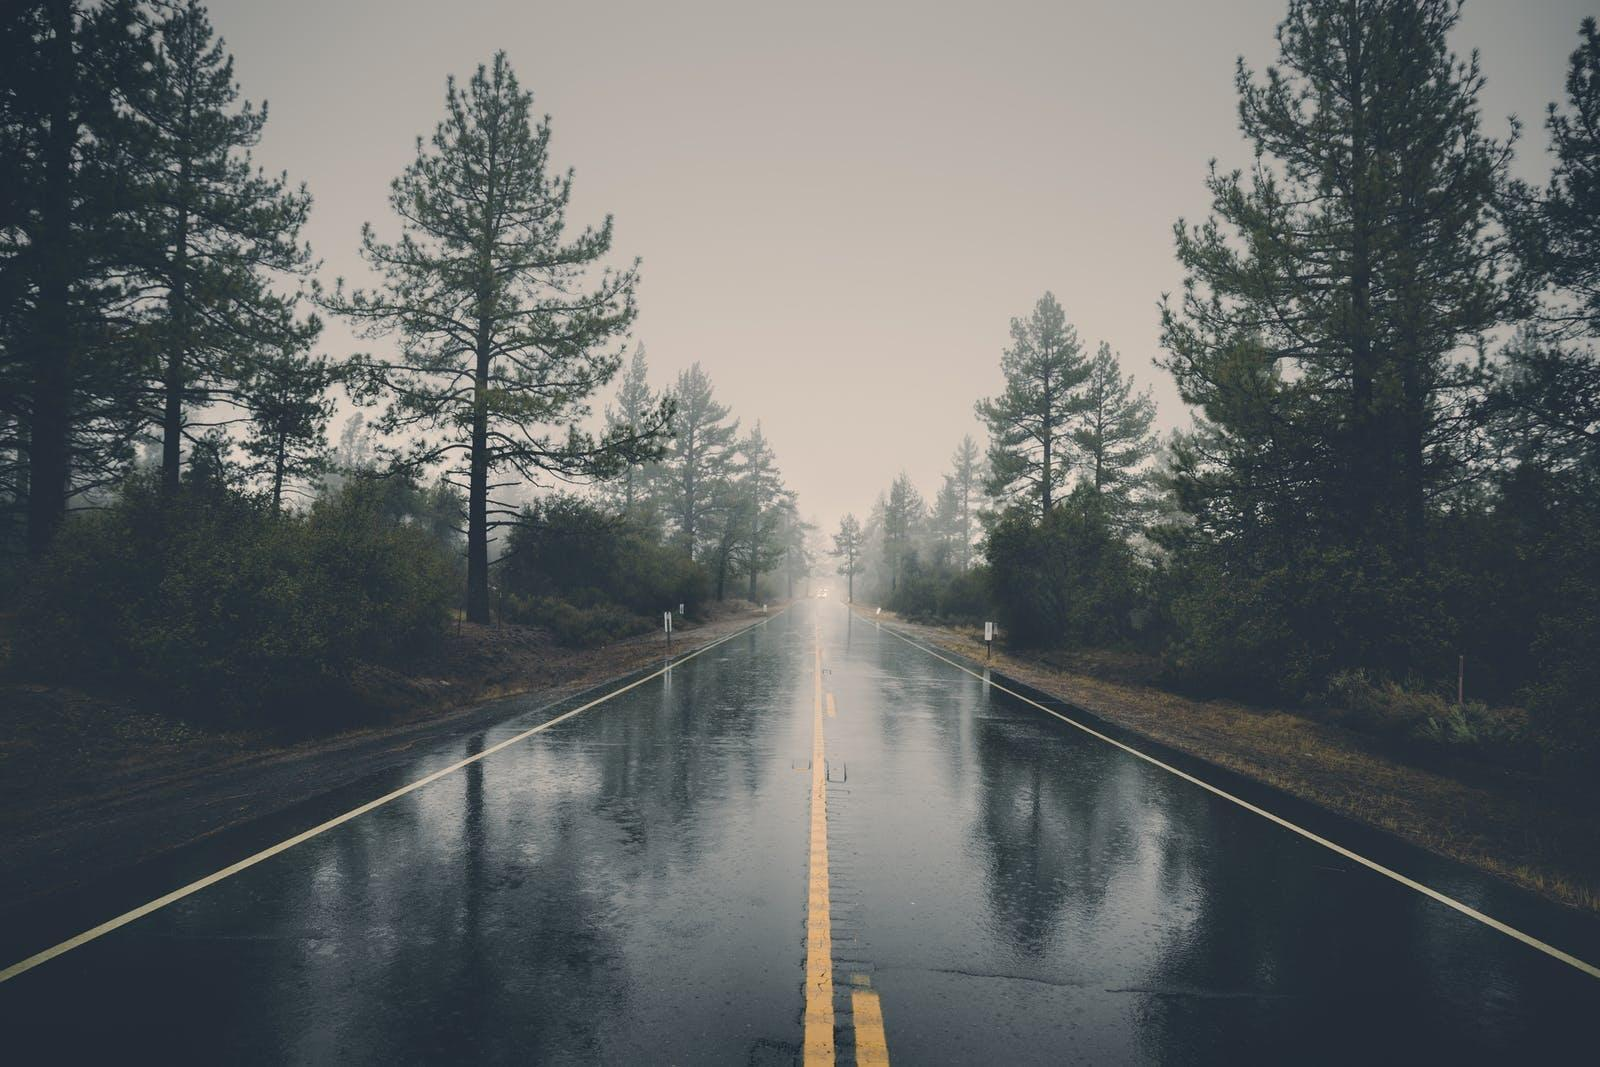road: (0, 601, 1599, 1065)
